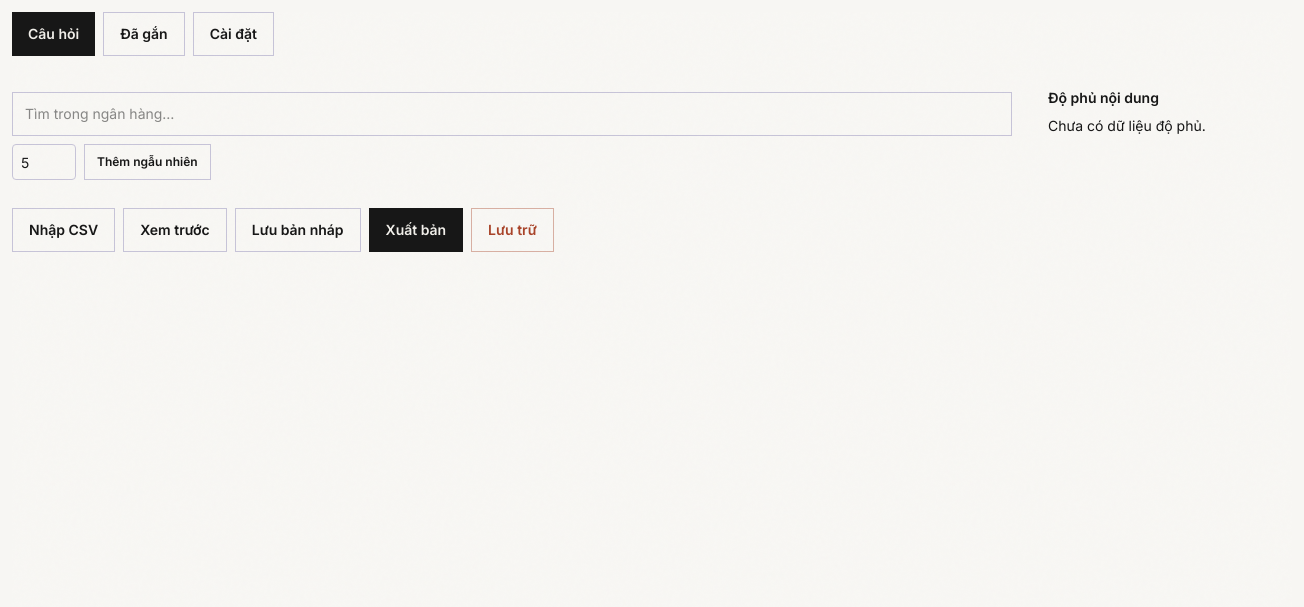
Test case: TestBuilder › opens an attach form from the placements tab
The image size is (1304, 607).
Click the button "Đã gắn" at (144, 34), box x1=103 y1=12 x2=185 y2=56
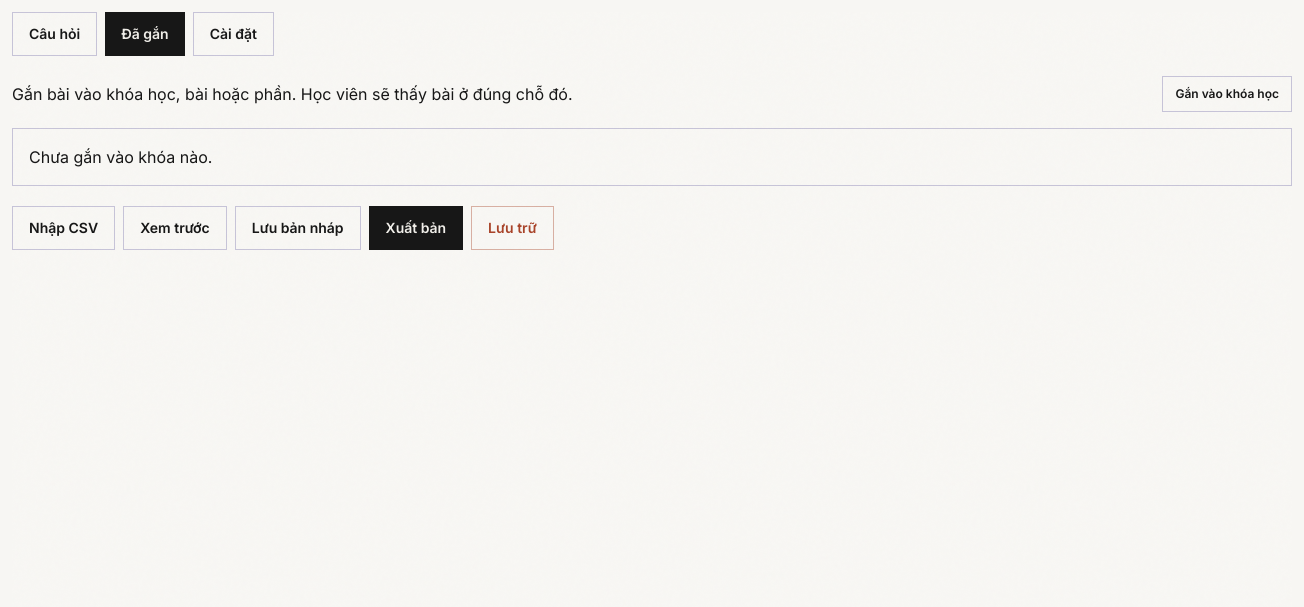
Check: the button "Gắn vào vị trí này" is not shown
Check: the list item "Chưa gắn vào khóa nào." is shown, box x1=29 y1=147 x2=212 y2=167
Click the button "Gắn vào khóa học" at (1227, 94), box x1=1162 y1=76 x2=1292 y2=112
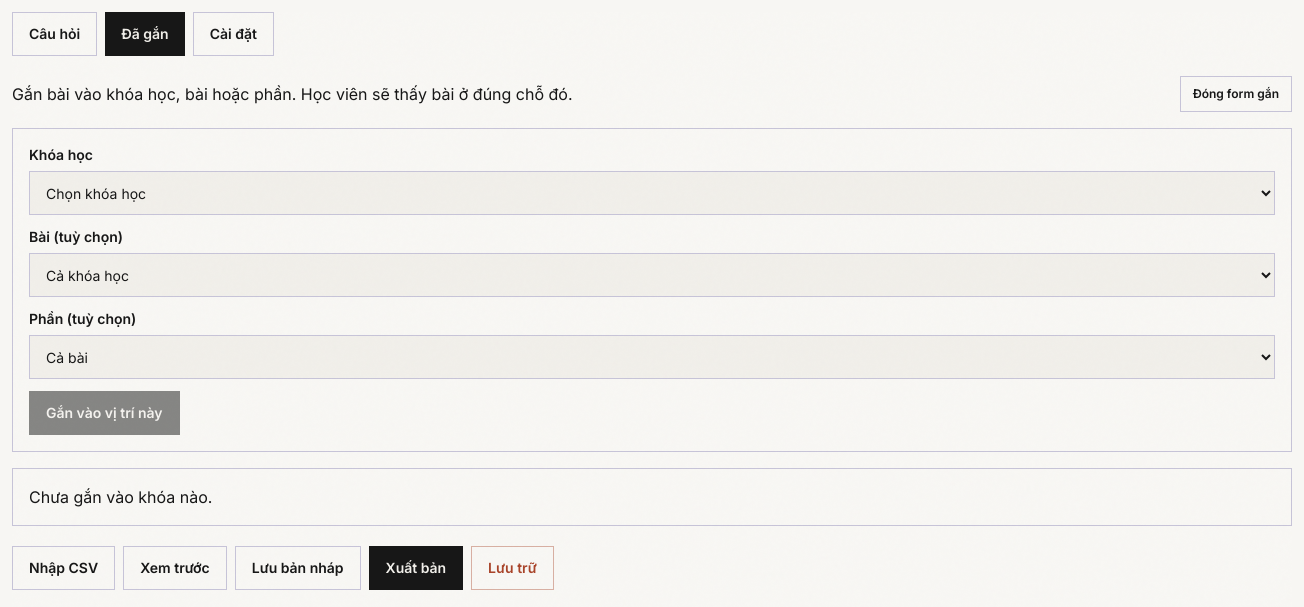
Check: the button "Gắn vào vị trí này" is shown, box x1=29 y1=391 x2=180 y2=435
